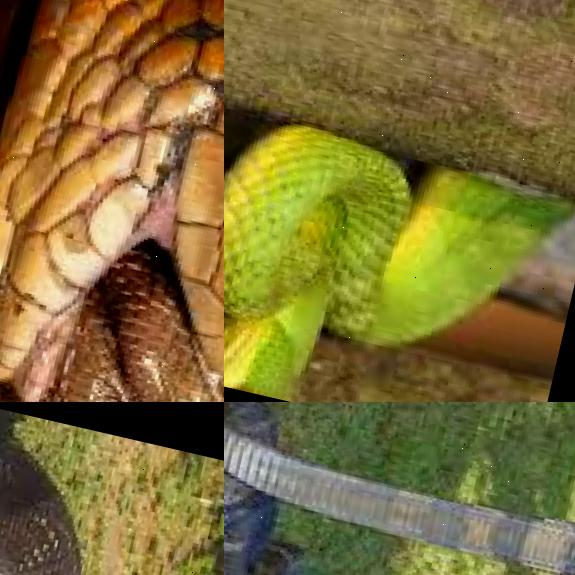snake: (224, 100, 575, 402), (0, 0, 224, 402), (224, 402, 575, 575), (0, 477, 224, 575)
